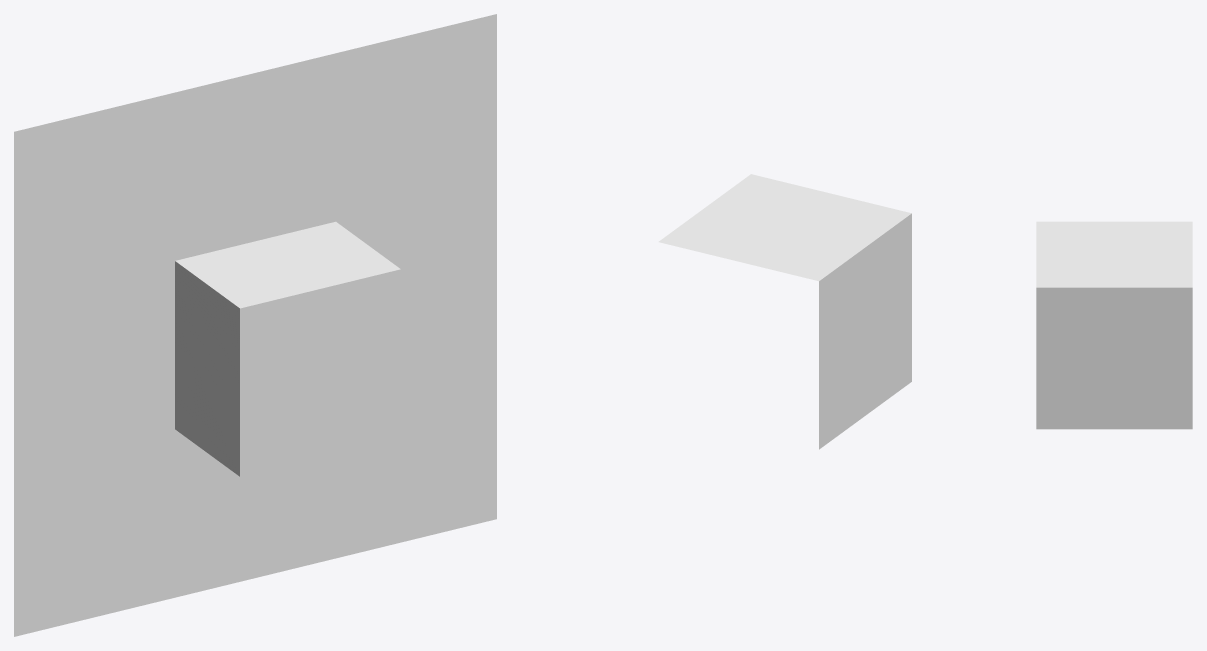
3 views of the same model, side by side, from view 1: azimuth 30°, elevation 25°; view 2: azimuth 150°, elevation 25°; view 3: azimuth 270°, elevation 25° (orthographic). The views are drawn at different scales.
Parts seen in each view (by area): view 1: waterball.model-MeshNodes["mesh_shadow"], vertex.model-Mesh[0]; view 2: vertex.model-Mesh[0]; view 3: vertex.model-Mesh[0].
Boxes of the visible parts, <box> form: waterball.model-MeshNodes["mesh_shadow"]: <box>14,14,496,636</box>; vertex.model-Mesh[0]: <box>175,221,400,476</box>; vertex.model-Mesh[0]: <box>658,174,911,449</box>; vertex.model-Mesh[0]: <box>1036,221,1192,429</box>.
Bounding box in the file's own units: 0.75 × 0.75 × 0.25.
2 materials, 1 textured.
